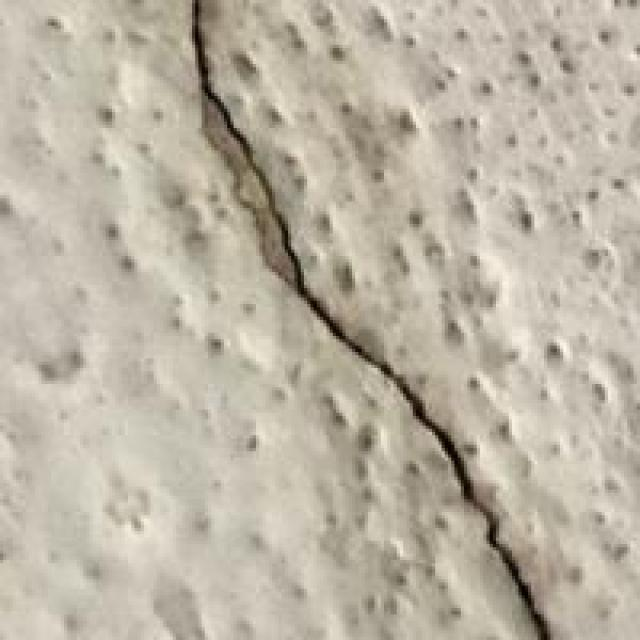crack: (186, 0, 556, 637)
